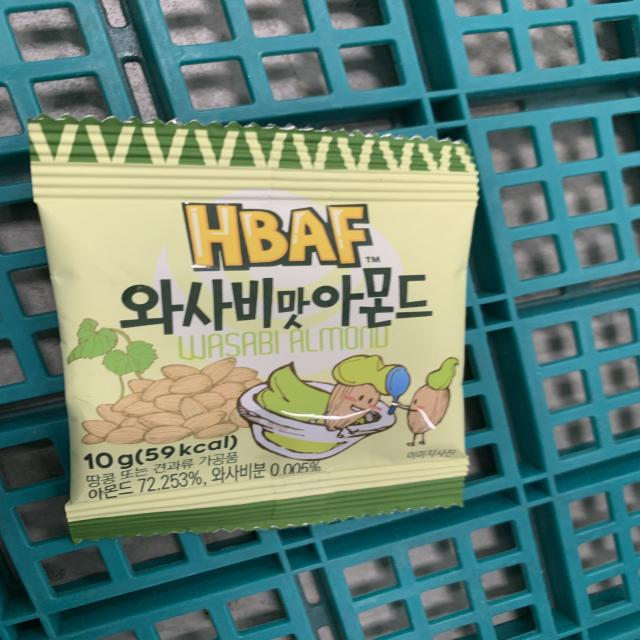object_name: (34, 121, 463, 508)
